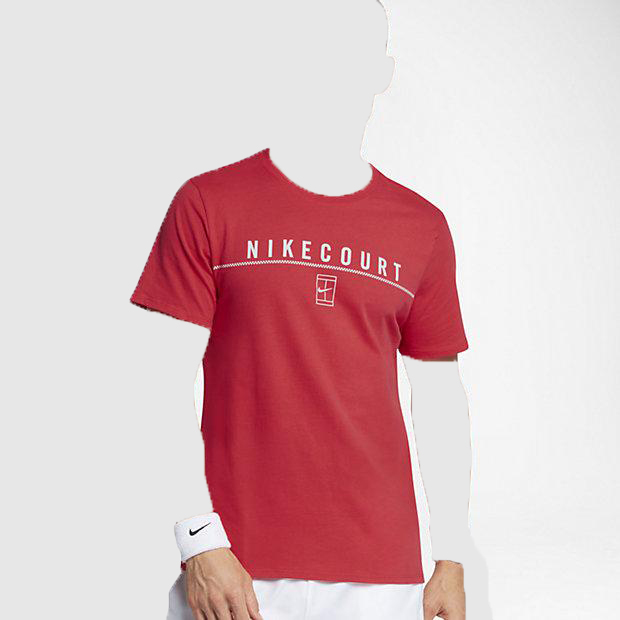teeshirt: (126, 142, 474, 613)
